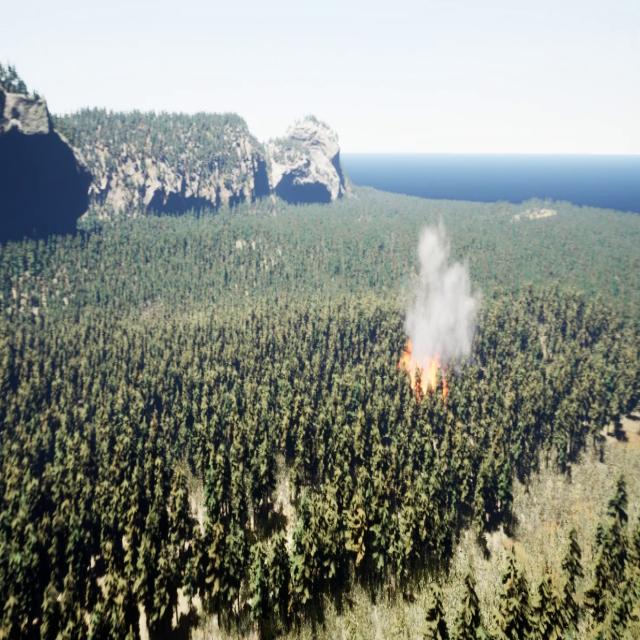fire: (395, 342, 450, 404)
smoke: (402, 214, 482, 380)
